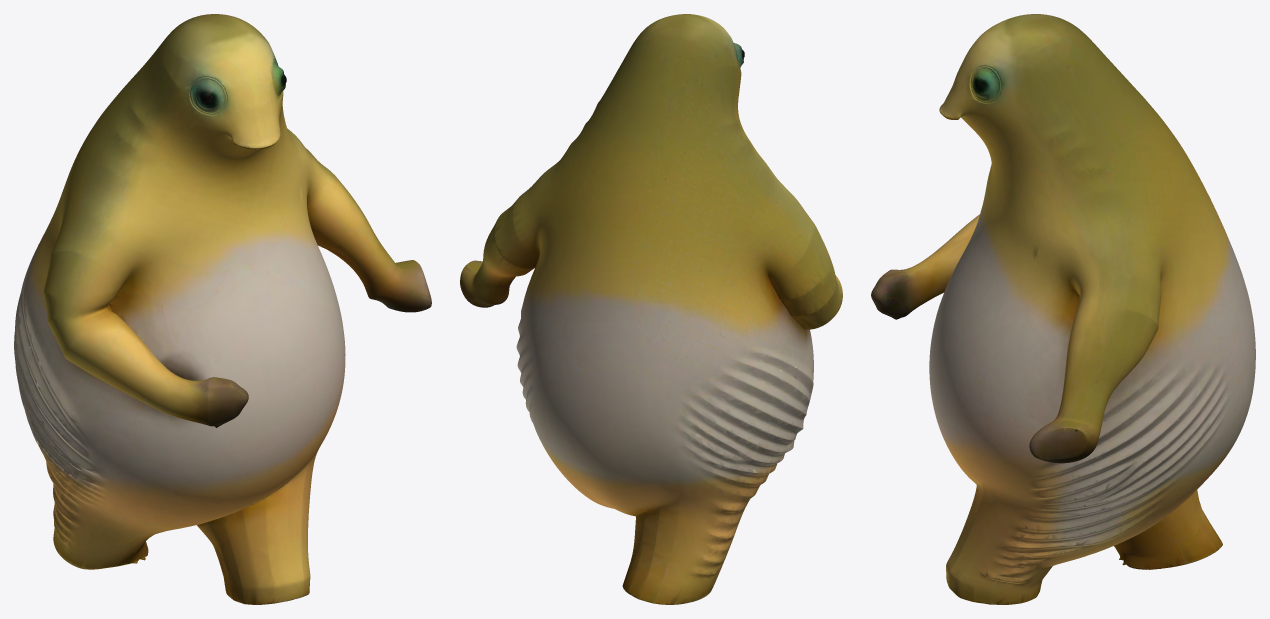
File: frog-run-opt.glb
The picture shows the model from 3 angles, left to right: view 1: azimuth 30°, elevation 25°; view 2: azimuth 150°, elevation 25°; view 3: azimuth 270°, elevation 25°; orthographic projection. The views are drawn at different scales.
Parts seen in each view (by area): view 1: node_0; view 2: node_0; view 3: node_0.
Part boxes in pixels (x1,y1,x2,y2): node_0: [14, 14, 431, 604]; node_0: [460, 14, 842, 604]; node_0: [871, 14, 1255, 604].
Bounding box in the file's own units: 0.7471 × 1.05 × 0.6567.
1 material, 1 textured.
